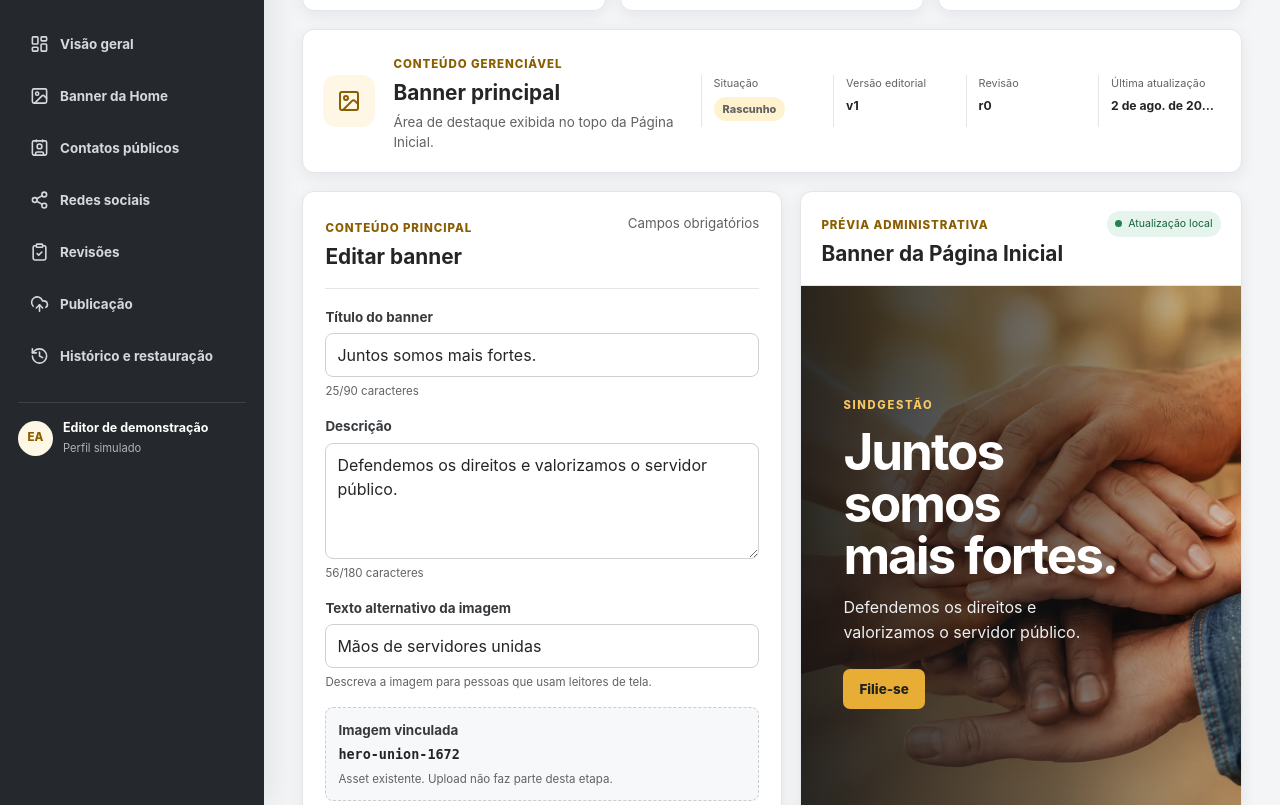
Test: HomeManagementPage › shows local 422 validation with an associated field message
(page scrolled)
Clear the field labelled "Título do banner 25/90 caracteres" at (542, 355), box [325,333,759,377]
(page scrolled)
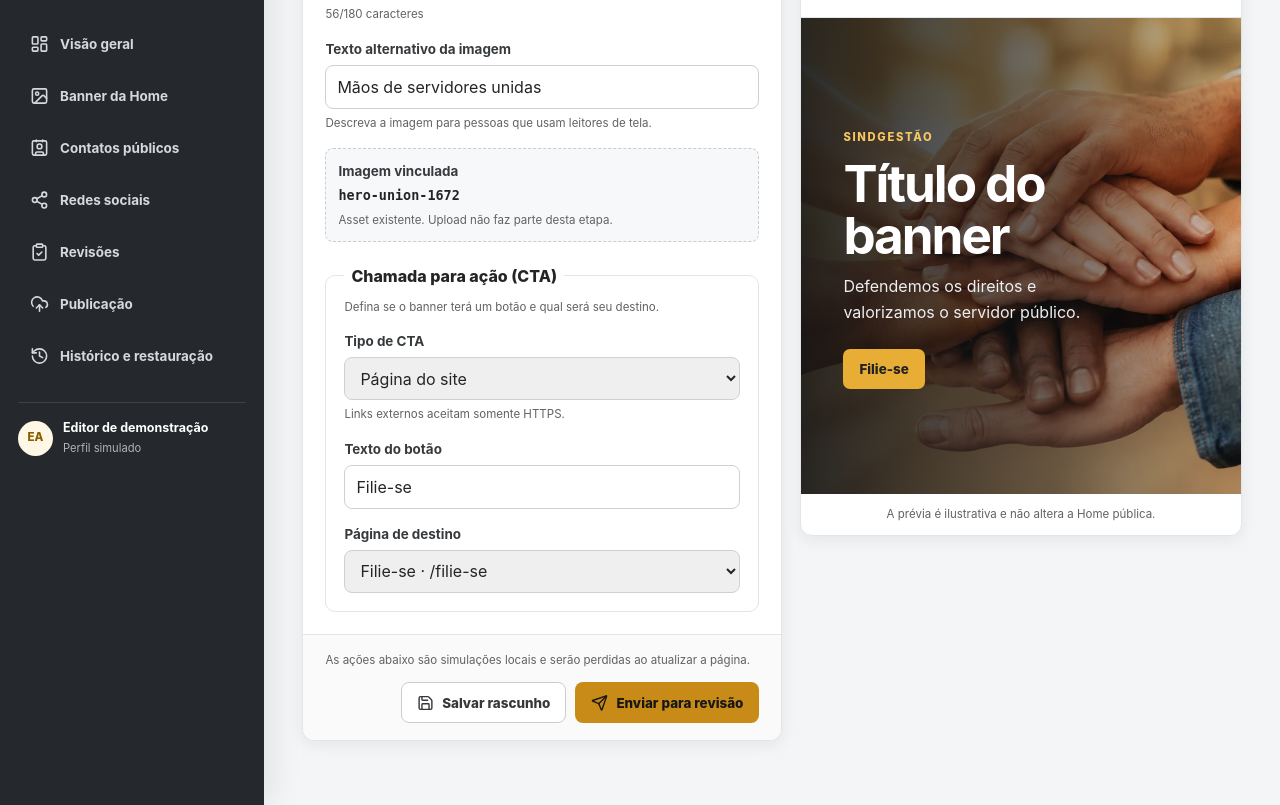
Click the button "Salvar rascunho".
click(484, 703)  # box [401,682,566,723]
(page scrolled)
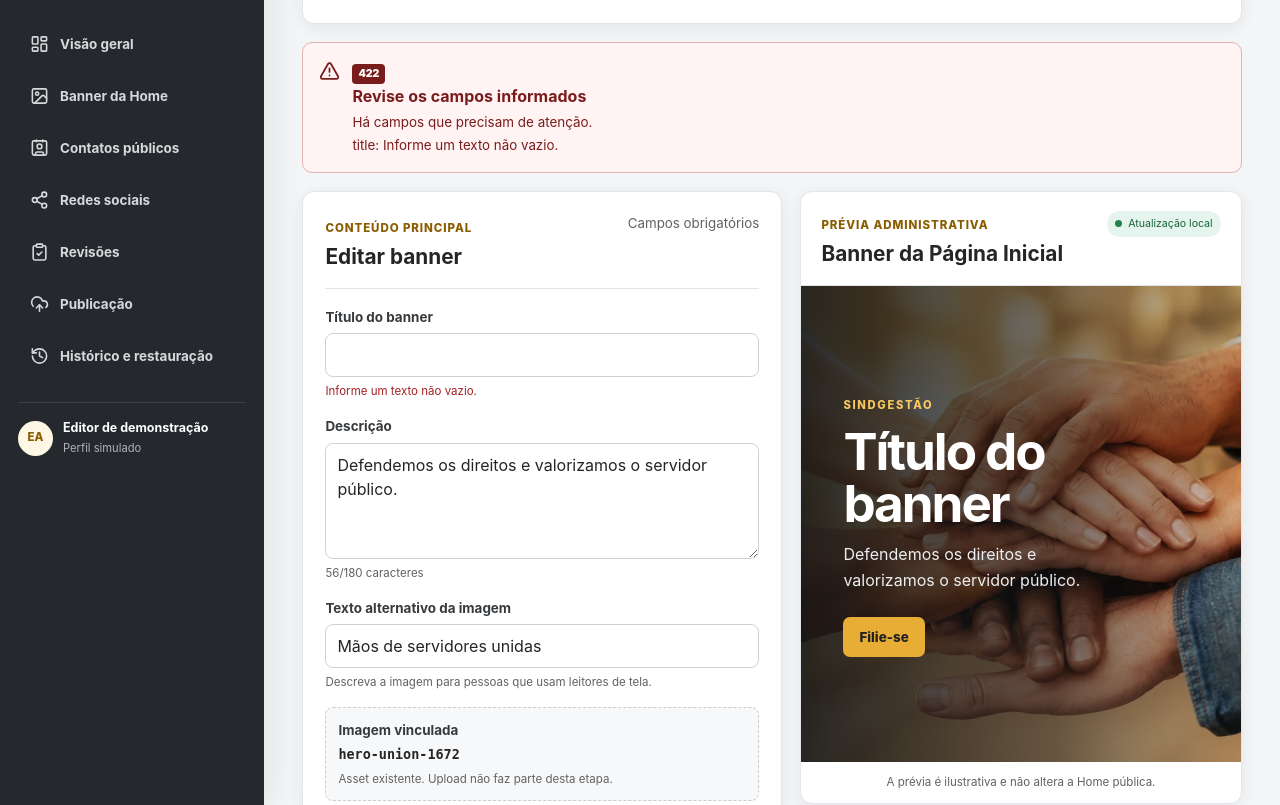
Expected: the message shows "422", [358,67,379,80]
